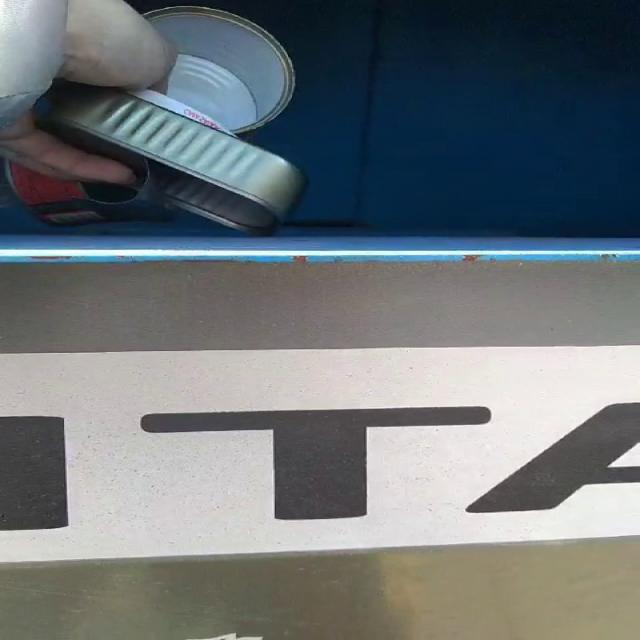bin: (0, 0, 639, 640), (0, 0, 639, 423), (128, 0, 639, 236), (0, 499, 639, 640), (0, 541, 637, 640), (3, 262, 621, 299)
metal: (11, 7, 305, 234)
